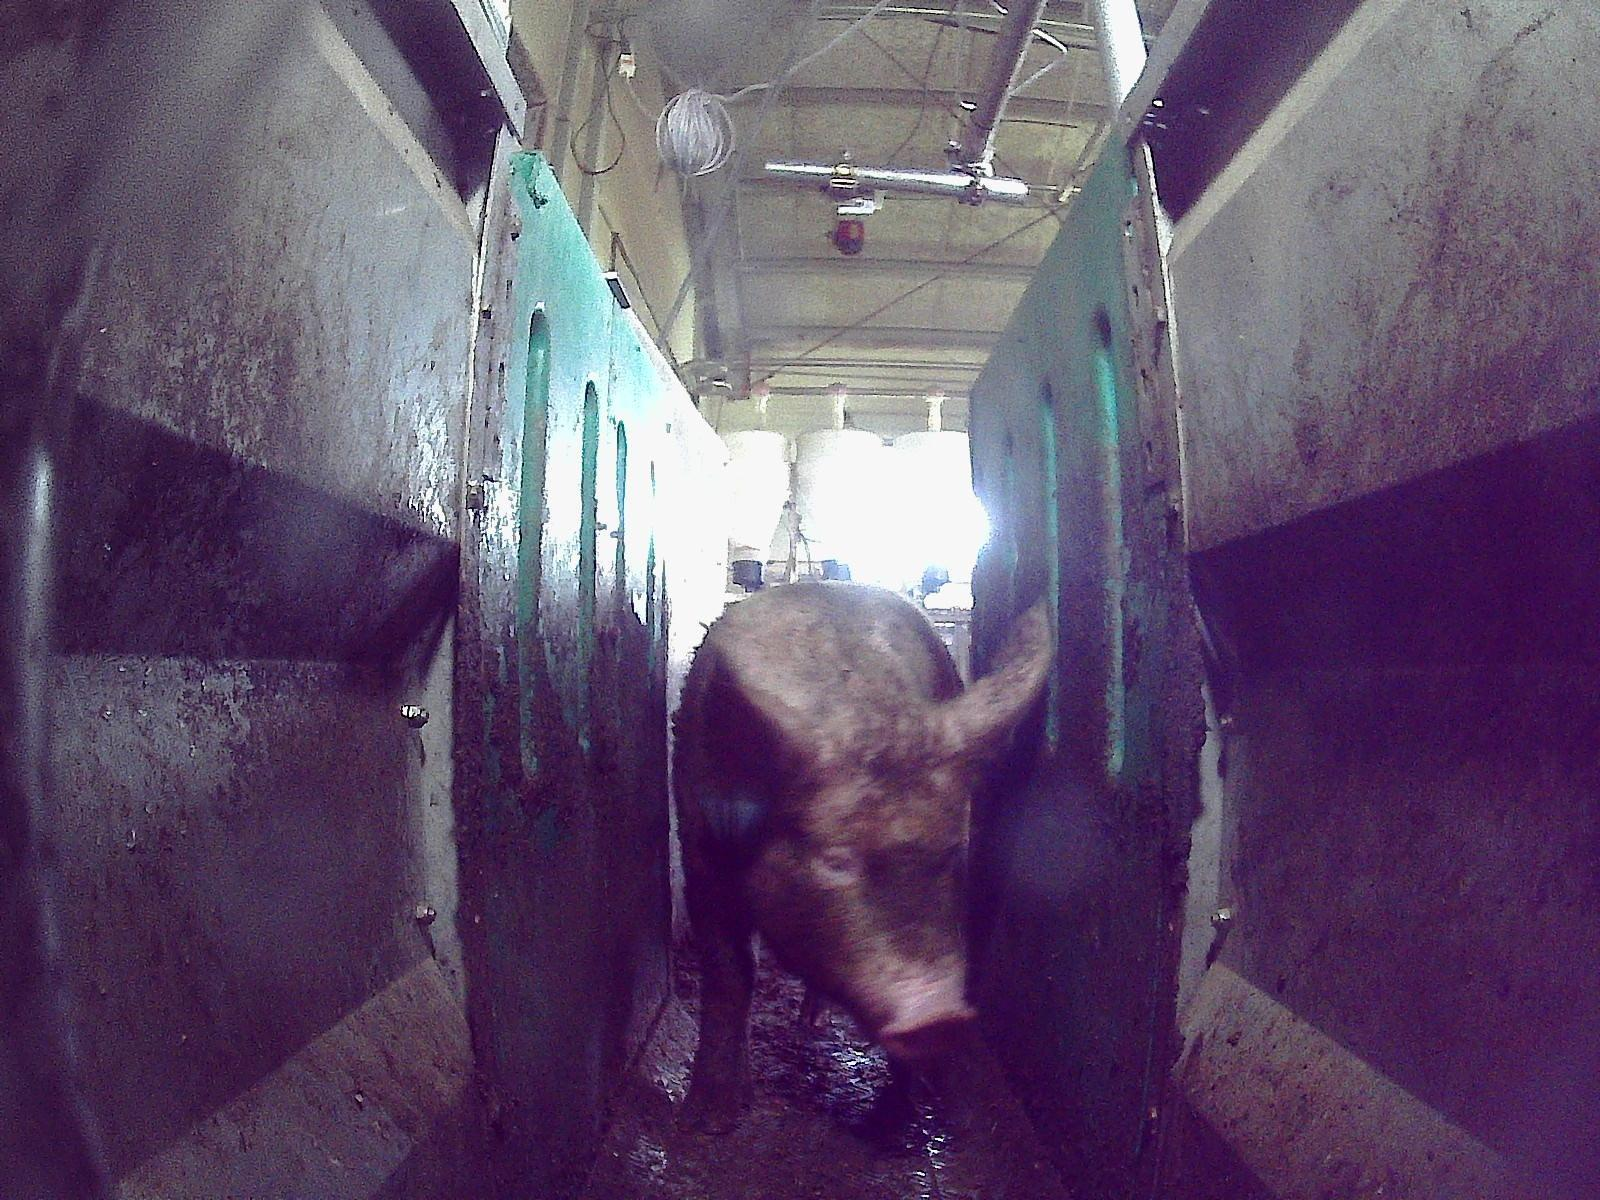Face: (762, 698, 980, 1057)
